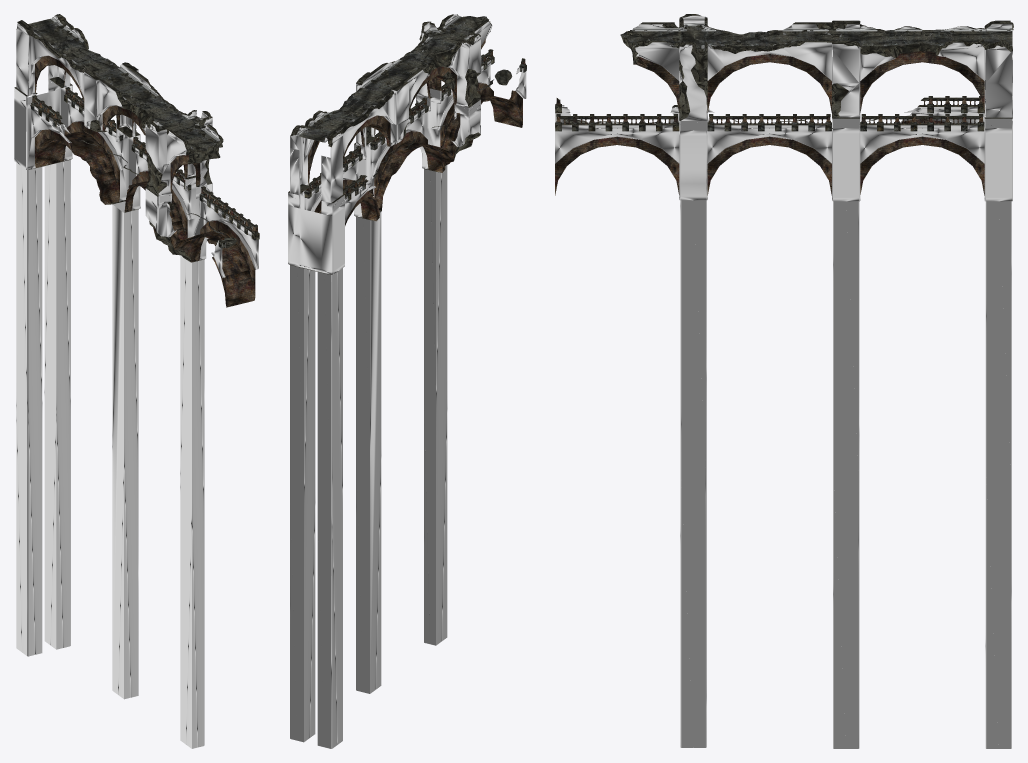
The picture shows the model from 3 angles, left to right: view 1: azimuth 30°, elevation 25°; view 2: azimuth 150°, elevation 25°; view 3: azimuth 270°, elevation 25°; orthographic projection. The views are drawn at different scales.
Visible parts, largest first — view 1: mesh2, mesh8, mesh3, mesh6, mesh5, mesh4, mesh7, mesh0, mesh9; view 2: mesh2, mesh3, mesh8, mesh5, mesh6, mesh4, mesh9, mesh7, mesh0; view 3: mesh2, mesh8, mesh3, mesh6, mesh5, mesh4, mesh7, mesh9.
Boxes of the visible parts, left/top/right/bottom form: mesh2: left=16, top=16, right=258, bottom=748; mesh8: left=35, top=56, right=255, bottom=307; mesh3: left=14, top=65, right=212, bottom=259; mesh6: left=14, top=14, right=259, bottom=262; mesh5: left=28, top=19, right=236, bottom=244; mesh4: left=31, top=88, right=259, bottom=248; mesh7: left=32, top=89, right=257, bottom=239; mesh0: left=41, top=25, right=215, bottom=150; mesh9: left=33, top=18, right=219, bottom=148; mesh2: left=290, top=14, right=526, bottom=748; mesh3: left=288, top=88, right=480, bottom=274; mesh8: left=308, top=38, right=522, bottom=225; mesh5: left=299, top=16, right=511, bottom=177; mesh6: left=288, top=14, right=526, bottom=274; mesh4: left=304, top=50, right=526, bottom=200; mesh9: left=296, top=15, right=468, bottom=142; mesh7: left=306, top=51, right=525, bottom=196; mesh0: left=307, top=16, right=488, bottom=130; mesh2: left=555, top=15, right=1012, bottom=748; mesh8: left=555, top=51, right=984, bottom=195; mesh3: left=679, top=48, right=1012, bottom=201; mesh6: left=555, top=14, right=1013, bottom=125; mesh5: left=563, top=25, right=1012, bottom=123; mesh4: left=555, top=97, right=984, bottom=131; mesh7: left=556, top=98, right=982, bottom=124; mesh9: left=633, top=23, right=1012, bottom=50.
Bounding box in the file's own units: 7.75 × 84.37 × 49.52.
